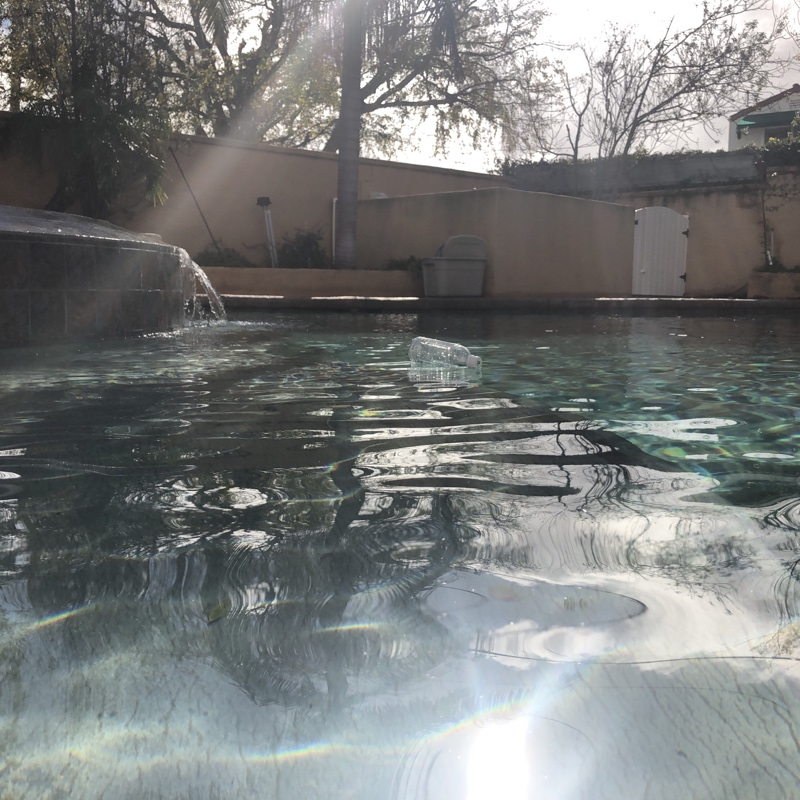Plastic Bottle: (407, 330, 483, 377)
